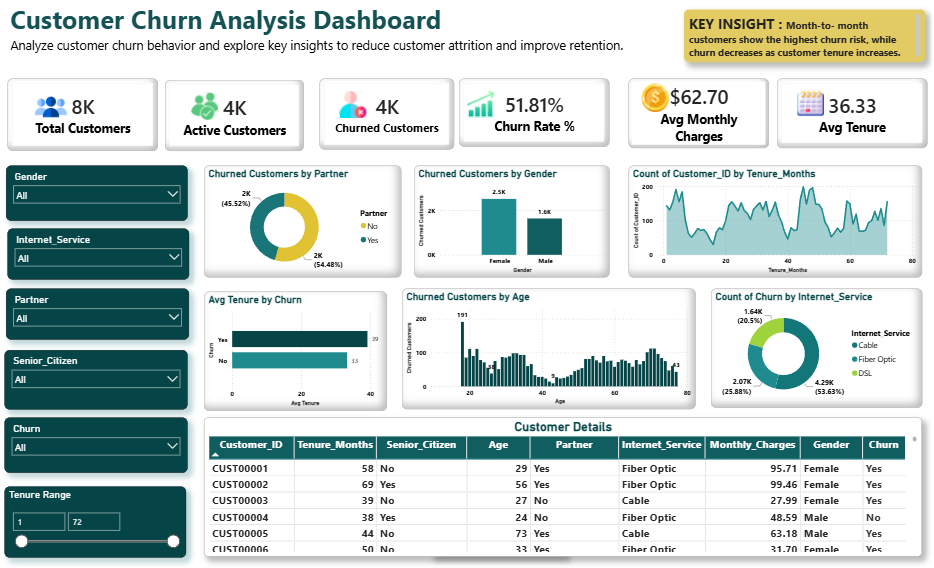

Layout of this report page (visuals, bound fields, positions):
{"tool":"powerbi","page":{"name":"Page 1","canvas":[1800,1100],"ordinal":0},"visuals":[{"type":"cardVisual","fields":{"Data":["Cleaned_Customer_Churn_Analysis.Total Customers"]},"box":[18.9,151.4,286.5,137.8],"z":0},{"type":"cardVisual","fields":{"Data":["Cleaned_Customer_Churn_Analysis.Active Customers"]},"box":[318.9,154.1,264.9,135.1],"z":1000},{"type":"cardVisual","fields":{"Data":["Cleaned_Customer_Churn_Analysis.Churned Customers"]},"box":[613.5,151.4,256.8,135.1],"z":2000},{"type":"cardVisual","fields":{"Data":["Cleaned_Customer_Churn_Analysis.Churn Rate %"]},"box":[881.1,151.4,286.5,129.7],"z":3000},{"type":"cardVisual","fields":{"Data":["Cleaned_Customer_Churn_Analysis.Avg Monthly Charges"]},"box":[1202.7,151.4,267.6,132.4],"z":4000},{"type":"cardVisual","fields":{"Data":["Cleaned_Customer_Churn_Analysis.Avg Tenure"]},"box":[1486.5,151.4,286.5,132.4],"z":5000},{"type":"clusteredColumnChart","fields":{"Category":["Cleaned_Customer_Churn_Analysis.Gender"],"Y":["Cleaned_Customer_Churn_Analysis.Churned Customers"]},"box":[794.6,316.2,373,213.5],"z":6000},{"type":"donutChart","fields":{"Category":["Cleaned_Customer_Churn_Analysis.Internet_Service"],"Y":["CountNonNull(Cleaned_Customer_Churn_Analysis.Churn)"]},"box":[1359.5,551.4,402.7,227],"z":7000},{"type":"clusteredColumnChart","fields":{"Category":["Cleaned_Customer_Churn_Analysis.Age"],"Y":["Cleaned_Customer_Churn_Analysis.Churned Customers"]},"box":[770.3,551.4,559.5,229.7],"z":8000},{"type":"donutChart","fields":{"Category":["Cleaned_Customer_Churn_Analysis.Partner"],"Y":["Cleaned_Customer_Churn_Analysis.Churned Customers"]},"box":[394.6,316.2,375.7,213.5],"z":9000},{"type":"clusteredColumnChart","fields":{"Category":["Cleaned_Customer_Churn_Analysis.Churn"],"Y":["Cleaned_Customer_Churn_Analysis.Avg Monthly Charges"]},"box":[827.5,835,252.5,227.5],"z":10000},{"type":"stackedAreaChart","fields":{"Category":["Cleaned_Customer_Churn_Analysis.Tenure_Months"],"Y":["CountNonNull(Cleaned_Customer_Churn_Analysis.Customer_ID)"]},"box":[1202.7,316.2,559.5,213.5],"z":11000},{"type":"clusteredBarChart","fields":{"Category":["Cleaned_Customer_Churn_Analysis.Churn"],"Y":["Cleaned_Customer_Churn_Analysis.Avg Tenure"]},"box":[394.6,556.8,348.6,227],"z":12000},{"type":"slicer","fields":{"Values":["Cleaned_Customer_Churn_Analysis.Gender"]},"box":[16.2,316.2,345.9,105.4],"z":13000},{"type":"slicer","fields":{"Values":["Cleaned_Customer_Churn_Analysis.Partner"]},"box":[16.2,551.4,348.6,97.3],"z":14000},{"type":"slicer","fields":{"Values":["Cleaned_Customer_Churn_Analysis.Internet_Service"]},"box":[18.9,437.8,345.9,97.3],"z":15000},{"type":"slicer","fields":{"Values":["Cleaned_Customer_Churn_Analysis.Senior_Citizen"]},"box":[13.5,667.6,348.6,113.5],"z":16000},{"type":"slicer","fields":{"Values":["Cleaned_Customer_Churn_Analysis.Churn"]},"box":[13.5,797.3,348.6,105.4],"z":17000},{"type":"tableEx","title":"Customer Details","fields":{"Values":["Cleaned_Customer_Churn_Analysis.Customer_ID","Cleaned_Customer_Churn_Analysis.Tenure_Months","Cleaned_Customer_Churn_Analysis.Senior_Citizen","Cleaned_Customer_Churn_Analysis.Age","Cleaned_Customer_Churn_Analysis.Partner","Cleaned_Customer_Churn_Analysis.Internet_Service","Cleaned_Customer_Churn_Analysis.Monthly_Charges","Cleaned_Customer_Churn_Analysis.Gender","Cleaned_Customer_Churn_Analysis.Churn"]},"box":[394.6,797.3,1367.6,264.9],"z":18000},{"type":"textbox","box":[18.9,0,1202.7,118.9],"z":19000},{"type":"textbox","box":[1308.1,18.9,459.5,100],"z":20000},{"type":"actionButton","box":[54.1,156.8,97.3,97.3],"z":21000},{"type":"actionButton","box":[365,175,76,60],"z":22000},{"type":"actionButton","box":[648.6,170.3,100,59.5],"z":23000},{"type":"actionButton","box":[891.9,170.3,89.2,59.5],"z":24000},{"type":"actionButton","box":[1221.6,156.8,86.5,62.2],"z":25000},{"type":"actionButton","box":[1518.9,167.6,75.7,59.5],"z":26000},{"type":"slicer","title":"Tenure Range","fields":{"Values":["Cleaned_Customer_Churn_Analysis.Tenure_Months"]},"box":[13.5,929.7,345.9,135.1],"z":27000}]}

Visuals, with their boxes in screenshot pixels (x1, y1, x2, y2), scaled from the page's 1800x1100 canvas onto the 934x568 screenshot:
cardVisual - Cleaned_Customer_Churn_Analysis.Total Customers: detection(10, 78, 158, 149)
cardVisual - Cleaned_Customer_Churn_Analysis.Active Customers: detection(165, 80, 303, 149)
cardVisual - Cleaned_Customer_Churn_Analysis.Churned Customers: detection(318, 78, 452, 148)
cardVisual - Cleaned_Customer_Churn_Analysis.Churn Rate %: detection(457, 78, 606, 145)
cardVisual - Cleaned_Customer_Churn_Analysis.Avg Monthly Charges: detection(624, 78, 763, 147)
cardVisual - Cleaned_Customer_Churn_Analysis.Avg Tenure: detection(771, 78, 920, 147)
clusteredColumnChart - Cleaned_Customer_Churn_Analysis.Gender x Cleaned_Customer_Churn_Analysis.Churned Customers: detection(412, 163, 606, 274)
donutChart - Cleaned_Customer_Churn_Analysis.Internet_Service x CountNonNull(Cleaned_Customer_Churn_Analysis.Churn): detection(705, 285, 914, 402)
clusteredColumnChart - Cleaned_Customer_Churn_Analysis.Age x Cleaned_Customer_Churn_Analysis.Churned Customers: detection(400, 285, 690, 403)
donutChart - Cleaned_Customer_Churn_Analysis.Partner x Cleaned_Customer_Churn_Analysis.Churned Customers: detection(205, 163, 400, 274)
clusteredColumnChart - Cleaned_Customer_Churn_Analysis.Churn x Cleaned_Customer_Churn_Analysis.Avg Monthly Charges: detection(429, 431, 560, 549)
stackedAreaChart - Cleaned_Customer_Churn_Analysis.Tenure_Months x CountNonNull(Cleaned_Customer_Churn_Analysis.Customer_ID): detection(624, 163, 914, 274)
clusteredBarChart - Cleaned_Customer_Churn_Analysis.Churn x Cleaned_Customer_Churn_Analysis.Avg Tenure: detection(205, 288, 386, 405)
slicer - Cleaned_Customer_Churn_Analysis.Gender: detection(8, 163, 188, 218)
slicer - Cleaned_Customer_Churn_Analysis.Partner: detection(8, 285, 189, 335)
slicer - Cleaned_Customer_Churn_Analysis.Internet_Service: detection(10, 226, 189, 276)
slicer - Cleaned_Customer_Churn_Analysis.Senior_Citizen: detection(7, 345, 188, 403)
slicer - Cleaned_Customer_Churn_Analysis.Churn: detection(7, 412, 188, 466)
"Customer Details" tableEx: detection(205, 412, 914, 548)
textbox: detection(10, 0, 634, 61)
textbox: detection(679, 10, 917, 61)
actionButton: detection(28, 81, 79, 131)
actionButton: detection(189, 90, 229, 121)
actionButton: detection(337, 88, 388, 119)
actionButton: detection(463, 88, 509, 119)
actionButton: detection(634, 81, 679, 113)
actionButton: detection(788, 87, 827, 117)
"Tenure Range" slicer: detection(7, 480, 186, 550)
